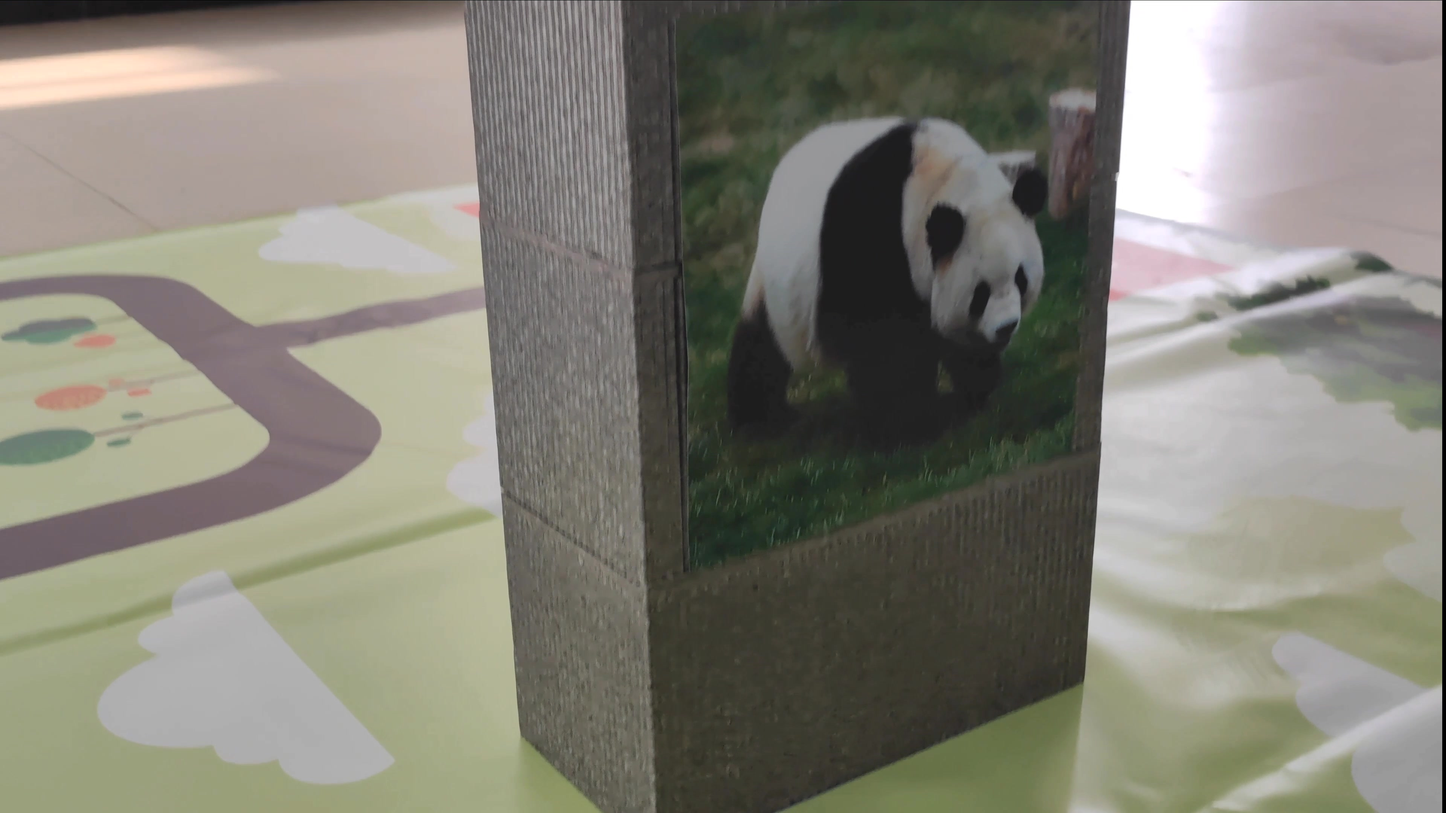panda: (695, 90, 1066, 462)
